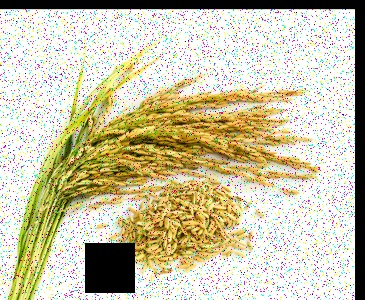rice: (47, 72, 312, 213)
